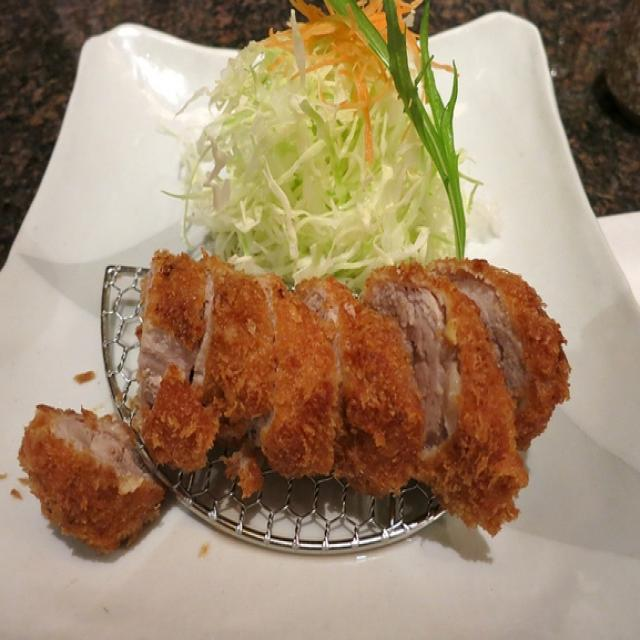牛肉菜式: (25, 60, 588, 615)
